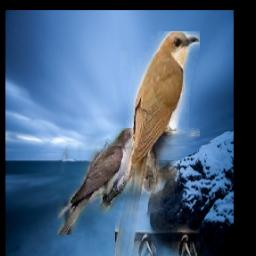Cuckoo: (116, 31, 201, 256), (57, 128, 145, 235)
